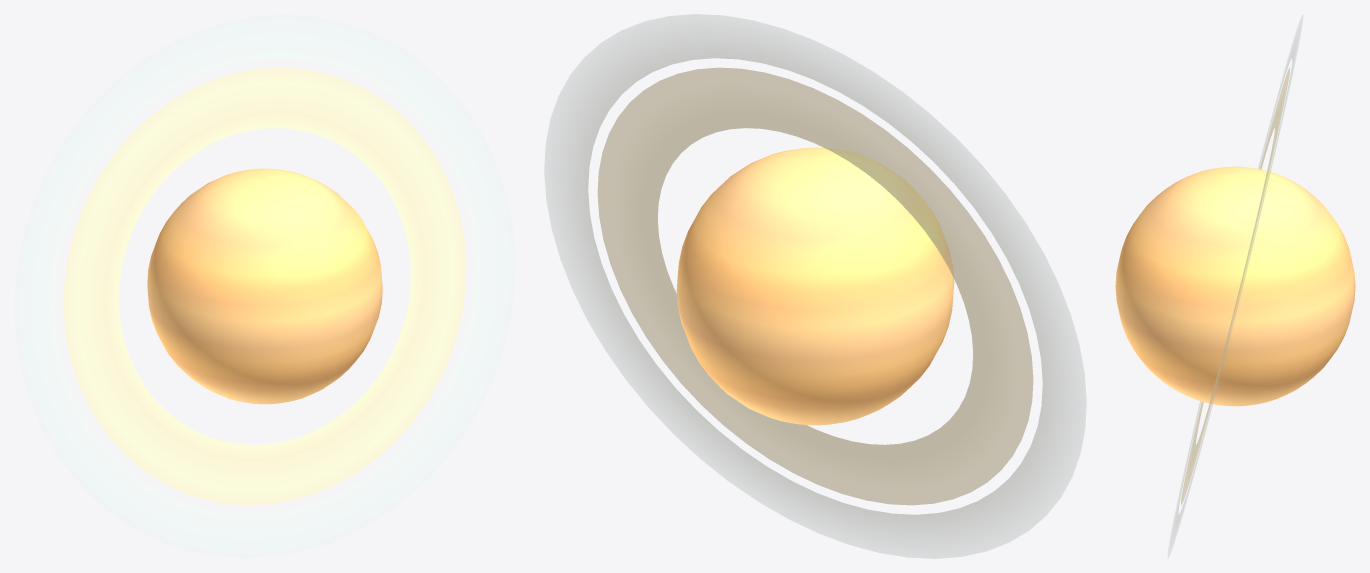
Rendered from prop_ringed_planet.glb.
3 views of the same model, side by side, from view 1: azimuth 30°, elevation 25°; view 2: azimuth 150°, elevation 25°; view 3: azimuth 270°, elevation 25° (orthographic). The views are drawn at different scales.
Visible parts, largest first — view 1: CassiniRings, GasGiantBody; view 2: CassiniRings, GasGiantBody; view 3: GasGiantBody, CassiniRings.
Boxes of the visible parts, x1=… form: CassiniRings: x1=14, y1=14, x2=515, y2=558; GasGiantBody: x1=147, y1=168, x2=382, y2=404; CassiniRings: x1=544, y1=14, x2=1086, y2=558; GasGiantBody: x1=676, y1=147, x2=954, y2=425; GasGiantBody: x1=1115, y1=166, x2=1355, y2=406; CassiniRings: x1=1168, y1=15, x2=1302, y2=557.
Size of the model in its own units: 4.67 by 4.55 by 2.
